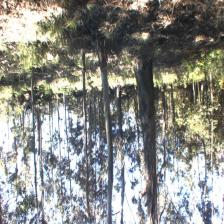trunktrack_idkeyframe: (130, 59, 159, 180), (96, 48, 114, 180), (80, 54, 88, 138)
